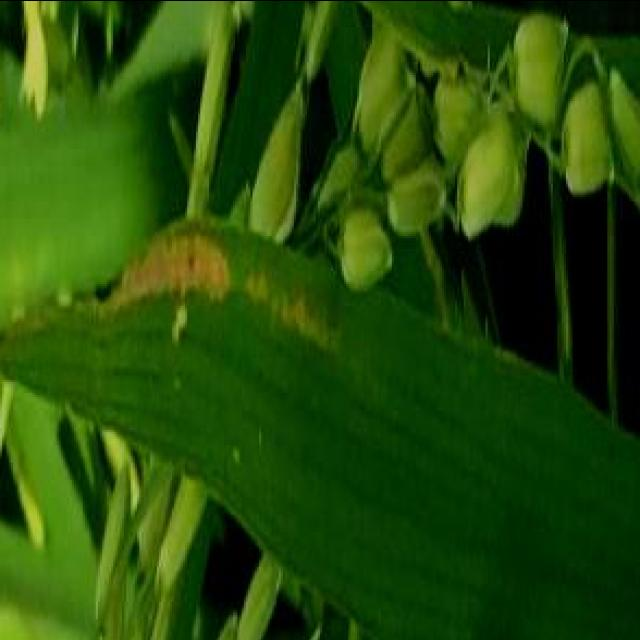Bacterial_Leaf_Blight: (0, 222, 340, 446)
